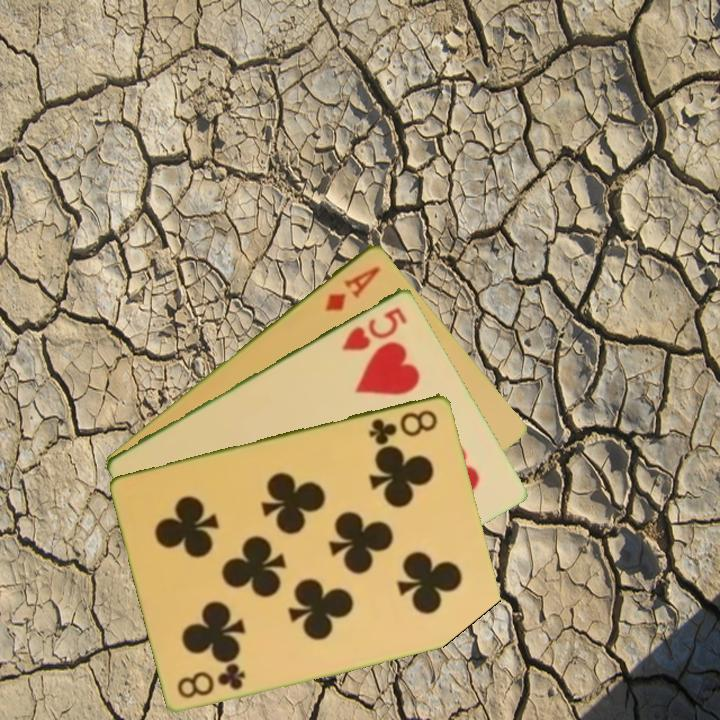5h: (338, 303, 410, 354)
8c: (365, 405, 441, 447), (174, 660, 249, 701)
Ad: (321, 262, 384, 314)
